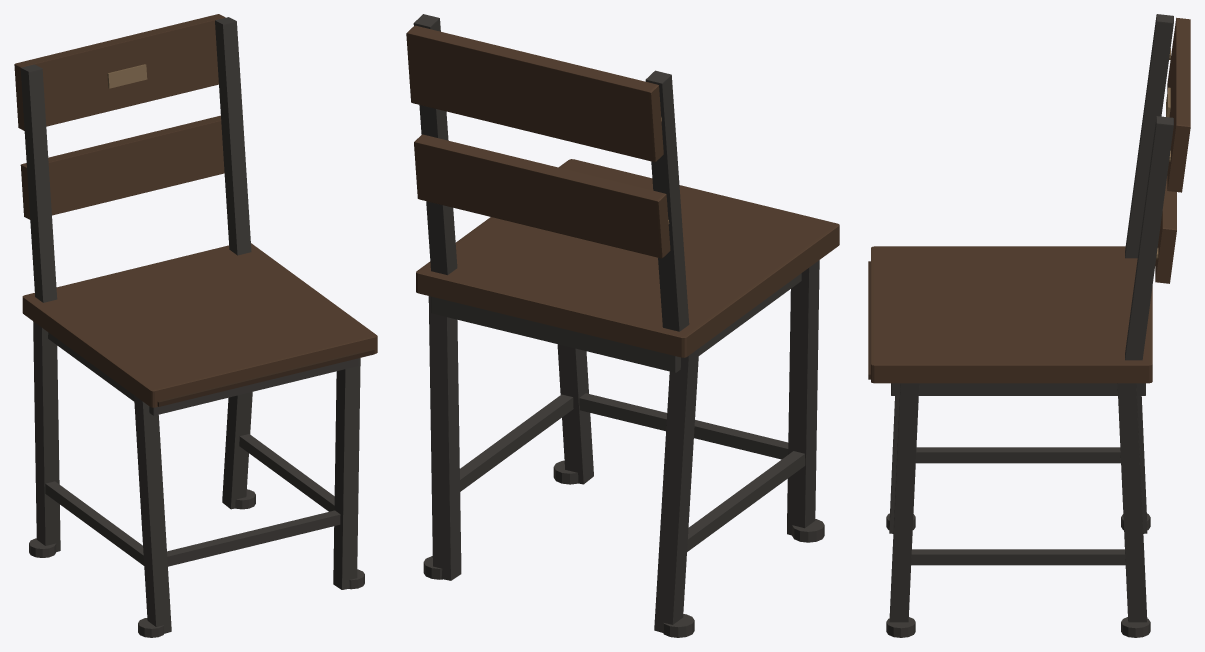
Rendered from tr_chair.glb.
The picture shows the model from 3 angles, left to right: view 1: azimuth 30°, elevation 25°; view 2: azimuth 150°, elevation 25°; view 3: azimuth 270°, elevation 25°; orthographic projection. The views are drawn at different scales.
Parts seen in each view (by area): view 1: tr_chair; view 2: tr_chair; view 3: tr_chair.
Boxes of the visible parts, bbox=[...] form: tr_chair: bbox=[14, 14, 377, 637]; tr_chair: bbox=[406, 14, 839, 637]; tr_chair: bbox=[868, 14, 1190, 637].
Bounding box in the file's own units: 0.42 × 0.8409 × 0.4811.
